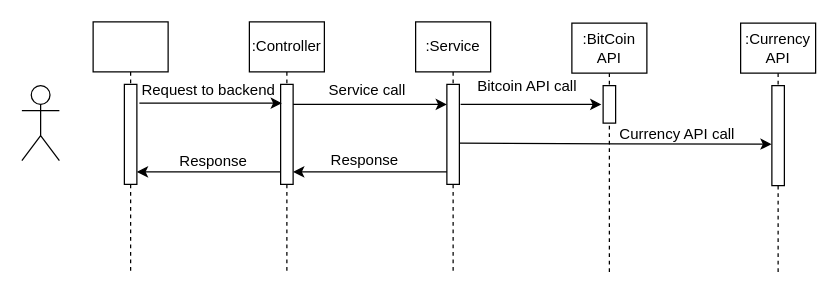
Some shapes in this 838 by 295 pixel diagram are drawn without their labels. Each missing label, with the centre of its shape:
":Bitcoin UI" goes at (130,147).
"Actor" goes at (40,122).
